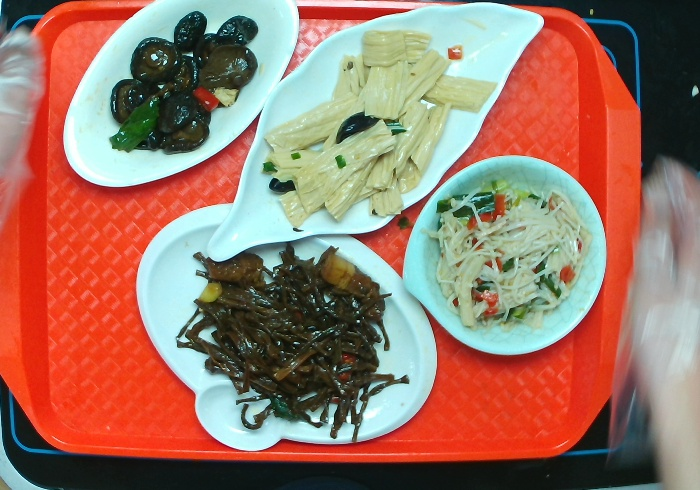RJxy-Bai_Se_Tuo_Yuan: (49, 1, 308, 193)
RJxy-Shu_Ye_Pan: (201, 1, 556, 262)
RJxy-Xiao_Jiao_Yuan_Wan: (397, 154, 611, 365)
RJxy-Zhan_Liao_Pan: (130, 197, 442, 460)
